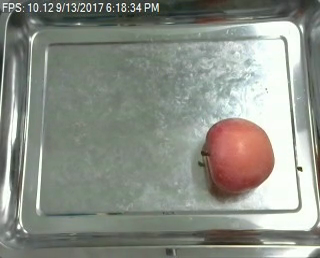Apple: (206, 119, 272, 193)
